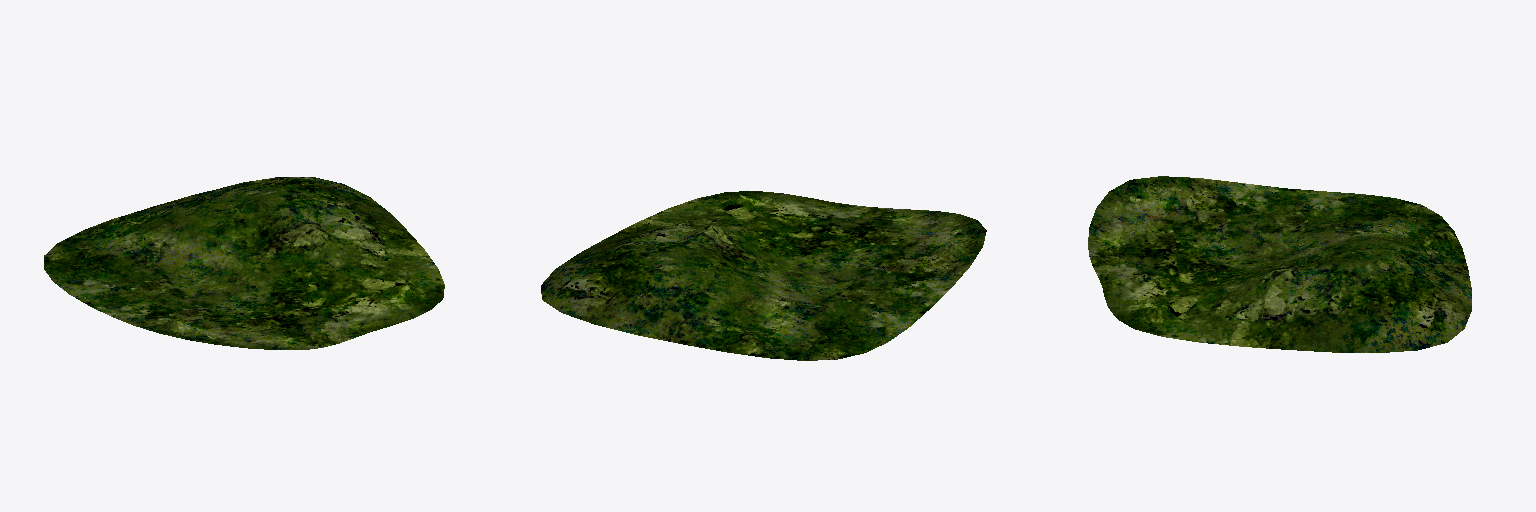
3 renders of one model, left to right at view 1: azimuth 30°, elevation 25°; view 2: azimuth 150°, elevation 25°; view 3: azimuth 270°, elevation 25°, orthographic.
Parts seen in each view (by area): view 1: Cube; view 2: Cube; view 3: Cube.
Boxes of the visible parts, <box> form: Cube: <box>44,177,444,349</box>; Cube: <box>541,191,986,360</box>; Cube: <box>1088,176,1471,352</box>.
Size of the model in its own units: 8.31 by 0.9073 by 8.44.
1 materials, 1 textured.